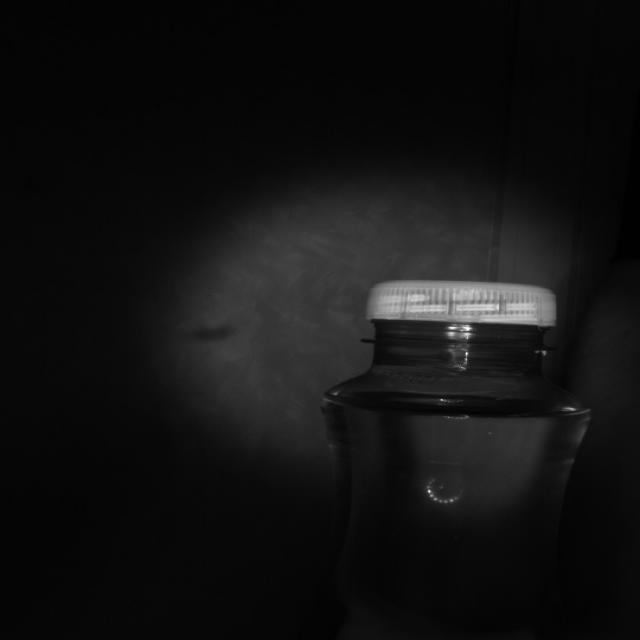Not Good: (354, 281, 559, 350)
